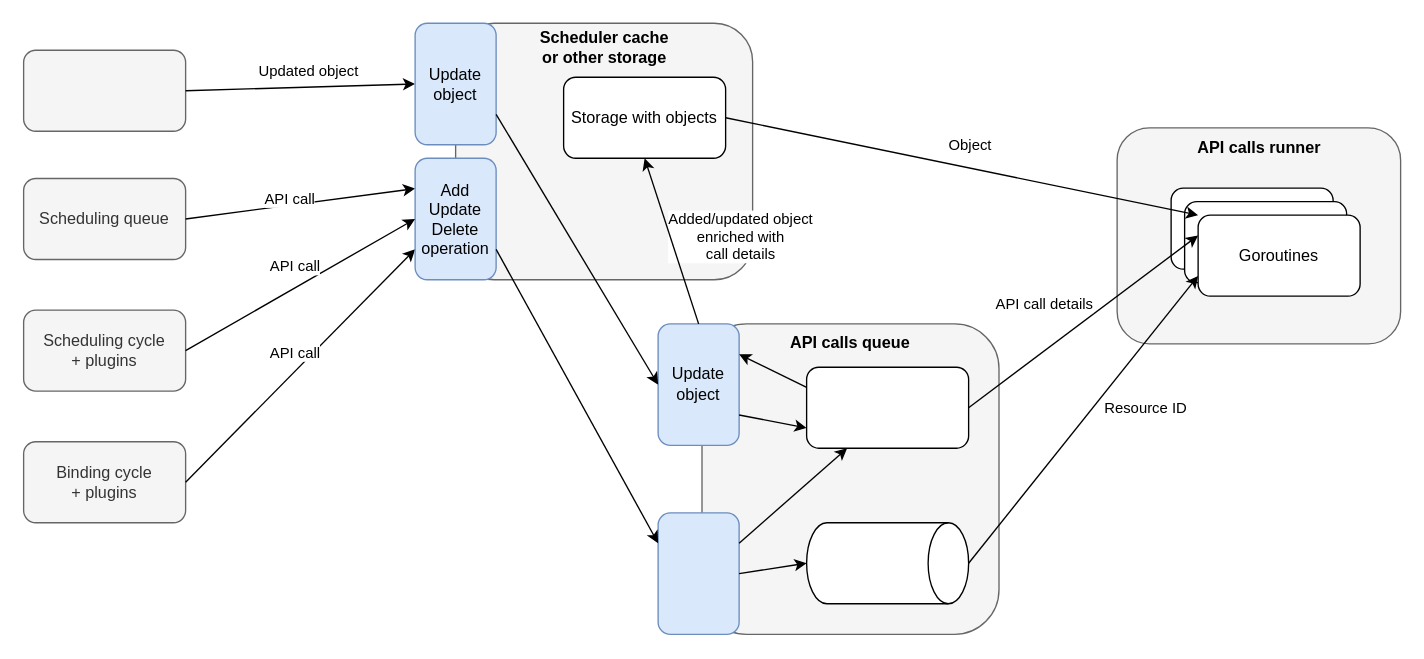
The diagram is 1424 pixels wide and 659 high, and some of its shapes have lost their labels. The centre of each missing label's shape, as x and y in pixels:
Add call: pixel 698 573
Event handler: pixel 104 90
Map with additional data (API calls details): pixel 887 407
Queue with resource IDs for API calls: pixel 887 562
